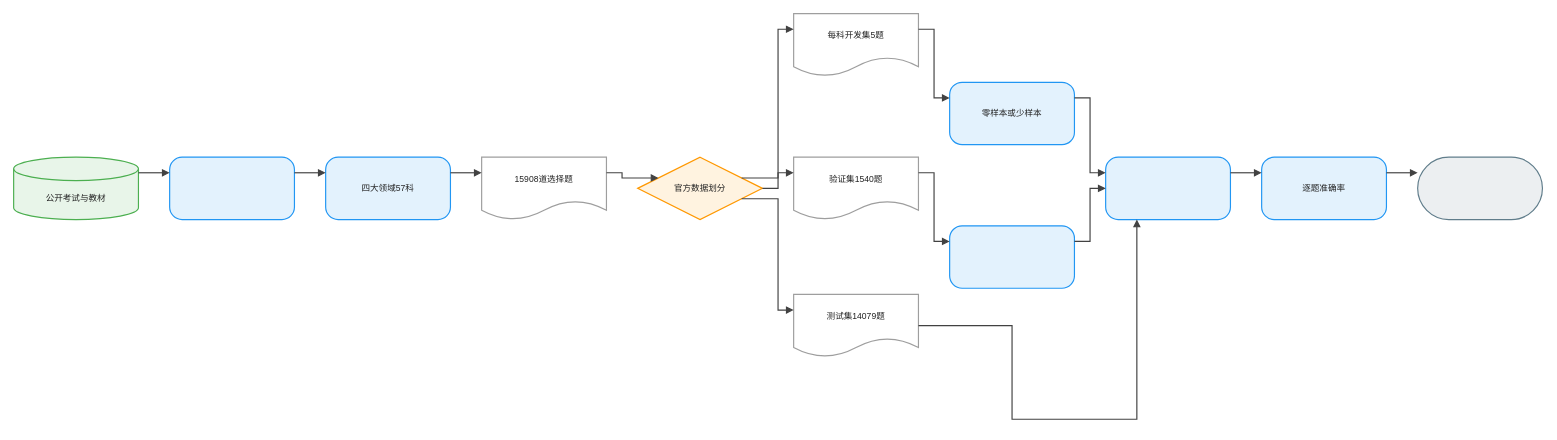
The diagram is 1557 pixels wide and 440 high, and some of its shapes have lost their labels. The shapes that lost their labels are listed below. From the top down, each one's box as (x1, y1, x2, y2) in pixels, then its label:
(169, 156, 295, 220): 学生人工收集
(1105, 156, 1231, 220): 选择A至D
(1417, 156, 1543, 220): 分科与加权平均
(949, 225, 1075, 288): 验证集选配置
